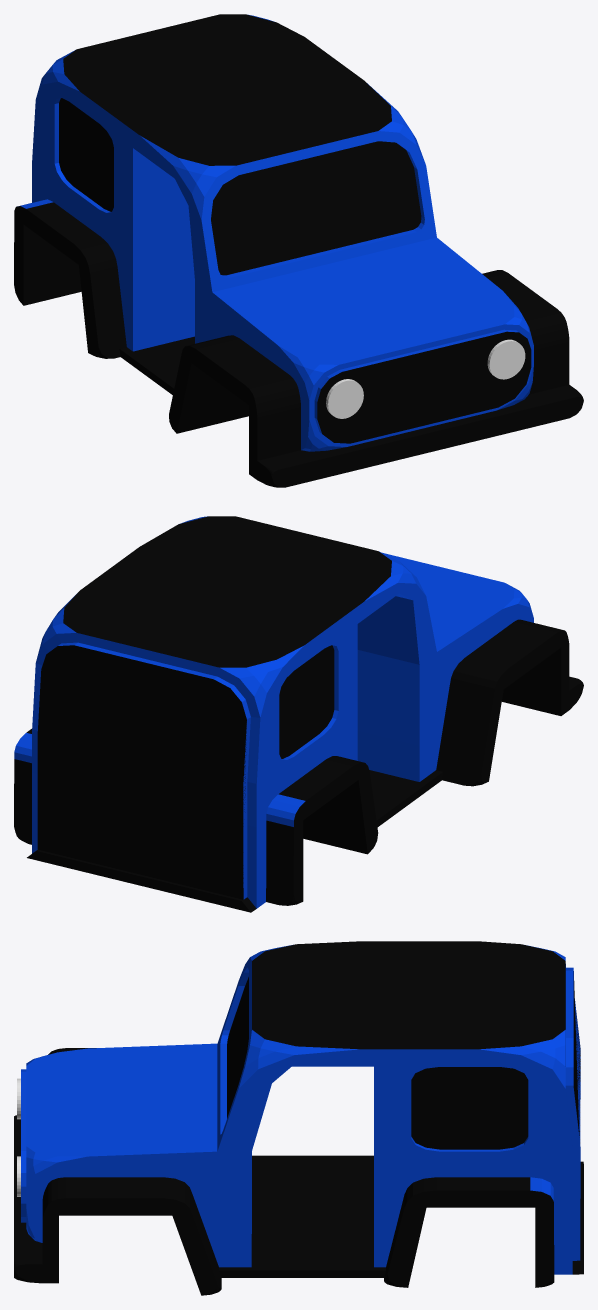
File: CarBody.fbx
3 views of the same model, one above another, from view 1: azimuth 30°, elevation 25°; view 2: azimuth 150°, elevation 25°; view 3: azimuth 270°, elevation 25° (orthographic).
Visible parts, largest first — view 1: Object; view 2: Object; view 3: Object.
Boxes of the visible parts, box(x1,y1,x2,y2) form: Object: box(14, 14, 583, 487); Object: box(14, 516, 583, 912); Object: box(14, 941, 583, 1295).
Bounding box in the file's own units: 297 × 208 × 476.
